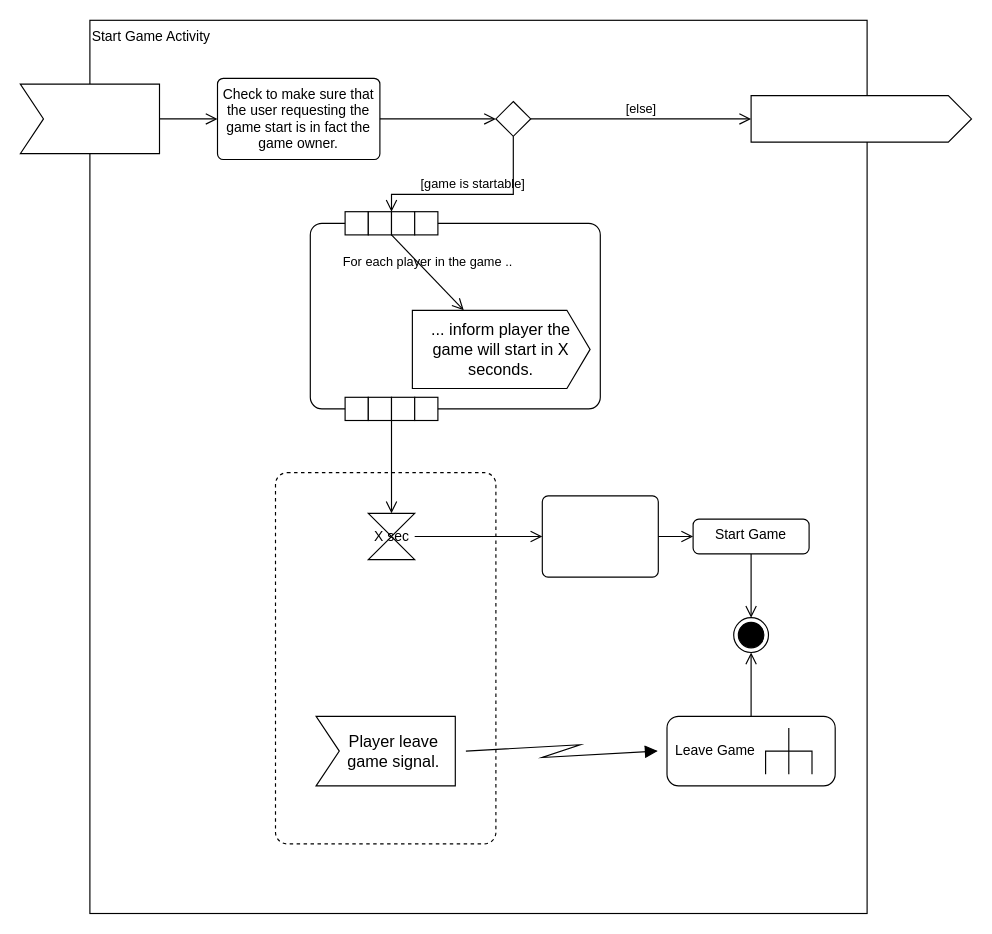
Image size: 992x934. Some labels were removed from this diagram. Each missing label, with the centre of its shape:
"Inform owner the game is no longer startable." belongs at pixel 860 118.
"Mark game as having started, making it not leavable." belongs at pixel 599 536.
"WebSocket Start-Game Signal" belongs at pixel 89 118.
